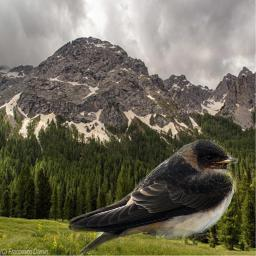Swallow: (67, 139, 238, 256)
